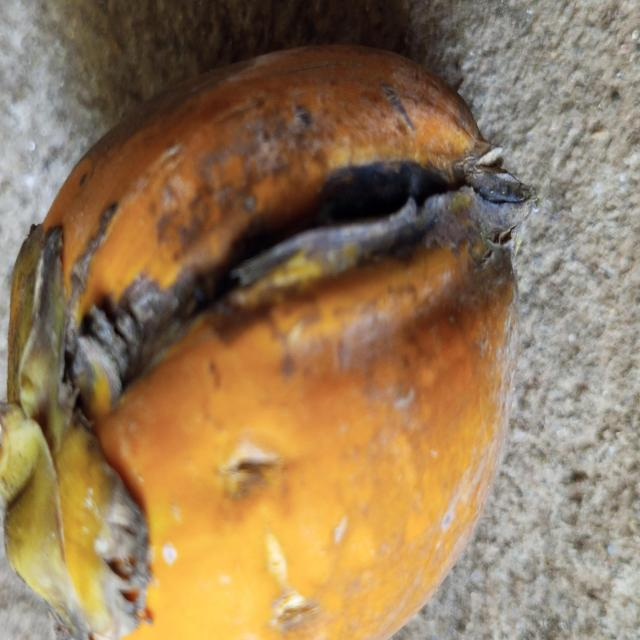damaged: (0, 46, 534, 638)
